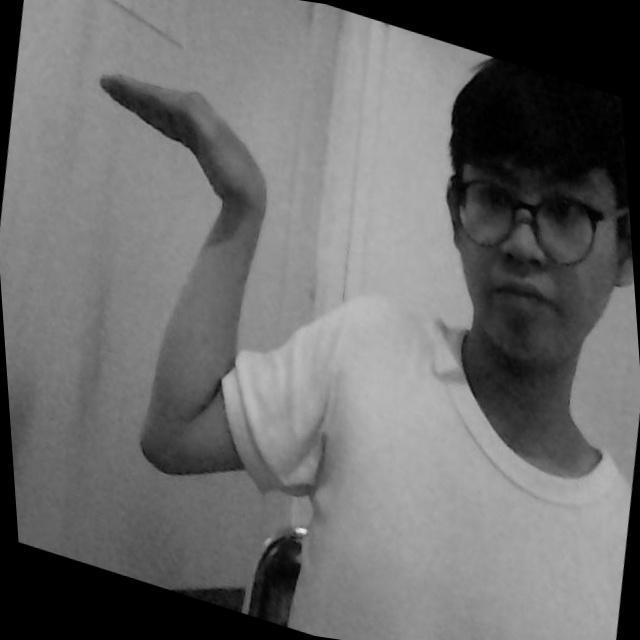Z: (65, 48, 308, 504)
